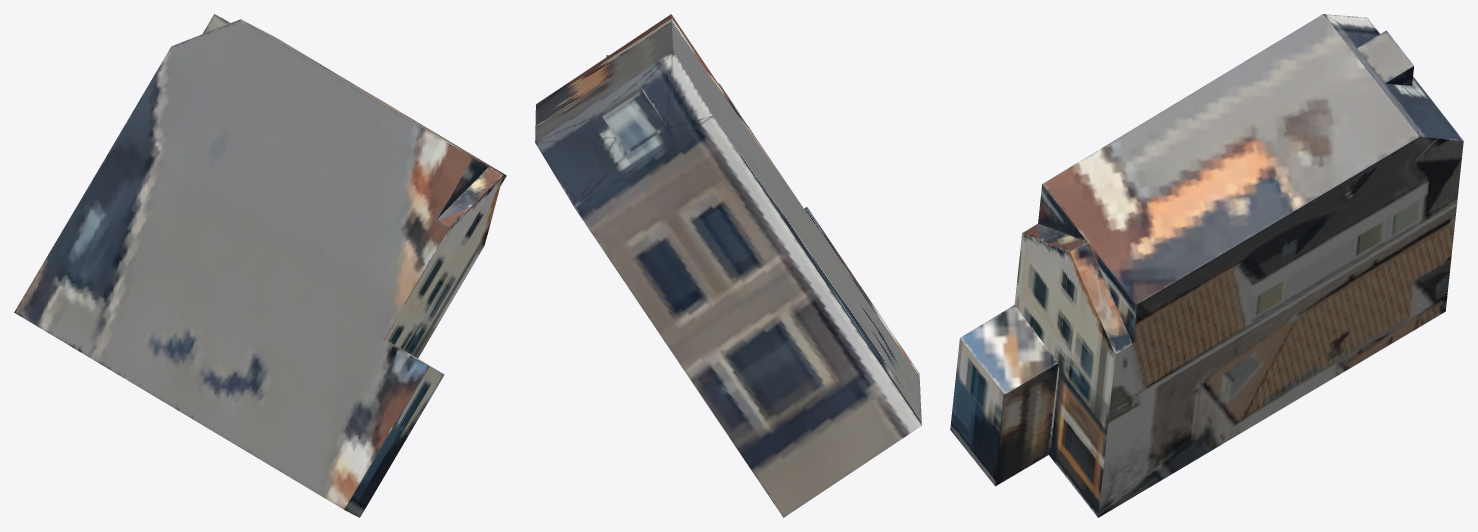
3 views of the same model, side by side, from view 1: azimuth 30°, elevation 25°; view 2: azimuth 150°, elevation 25°; view 3: azimuth 270°, elevation 25° (orthographic). The views are drawn at different scales.
Visible parts, largest first — view 1: BAG_0599100000650091 (×6); view 2: BAG_0599100000650091 (×5); view 3: BAG_0599100000650091 (×6).
Boxes of the visible parts, x1,y1,x2,y2 form: BAG_0599100000650091 (×6): (14, 14, 506, 517); BAG_0599100000650091 (×5): (535, 14, 921, 517); BAG_0599100000650091 (×6): (950, 14, 1463, 517).
Bounding box in the file's own units: 14.81 × 14.46 × 13.36.
6 materials, 6 textured.
